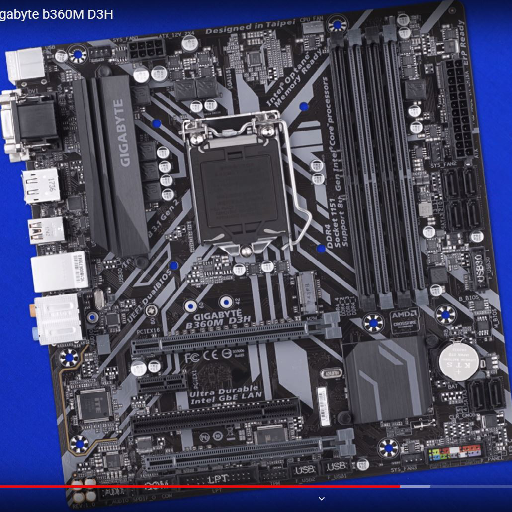CPU: (183, 125, 292, 257)
GPU: (141, 427, 358, 474), (130, 311, 343, 358)
MOTHERBOARD: (7, 4, 509, 503)
RAM: (326, 24, 433, 317)
SSD: (290, 270, 322, 317)
